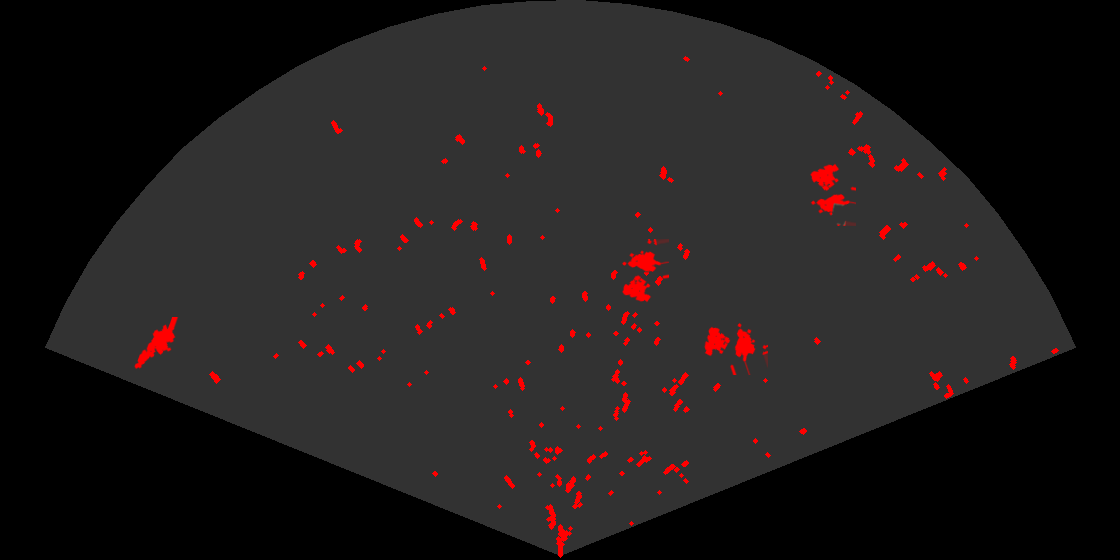cage: (703, 321, 768, 375), (620, 239, 669, 304), (809, 162, 856, 226)
frogman: (133, 317, 180, 371)
